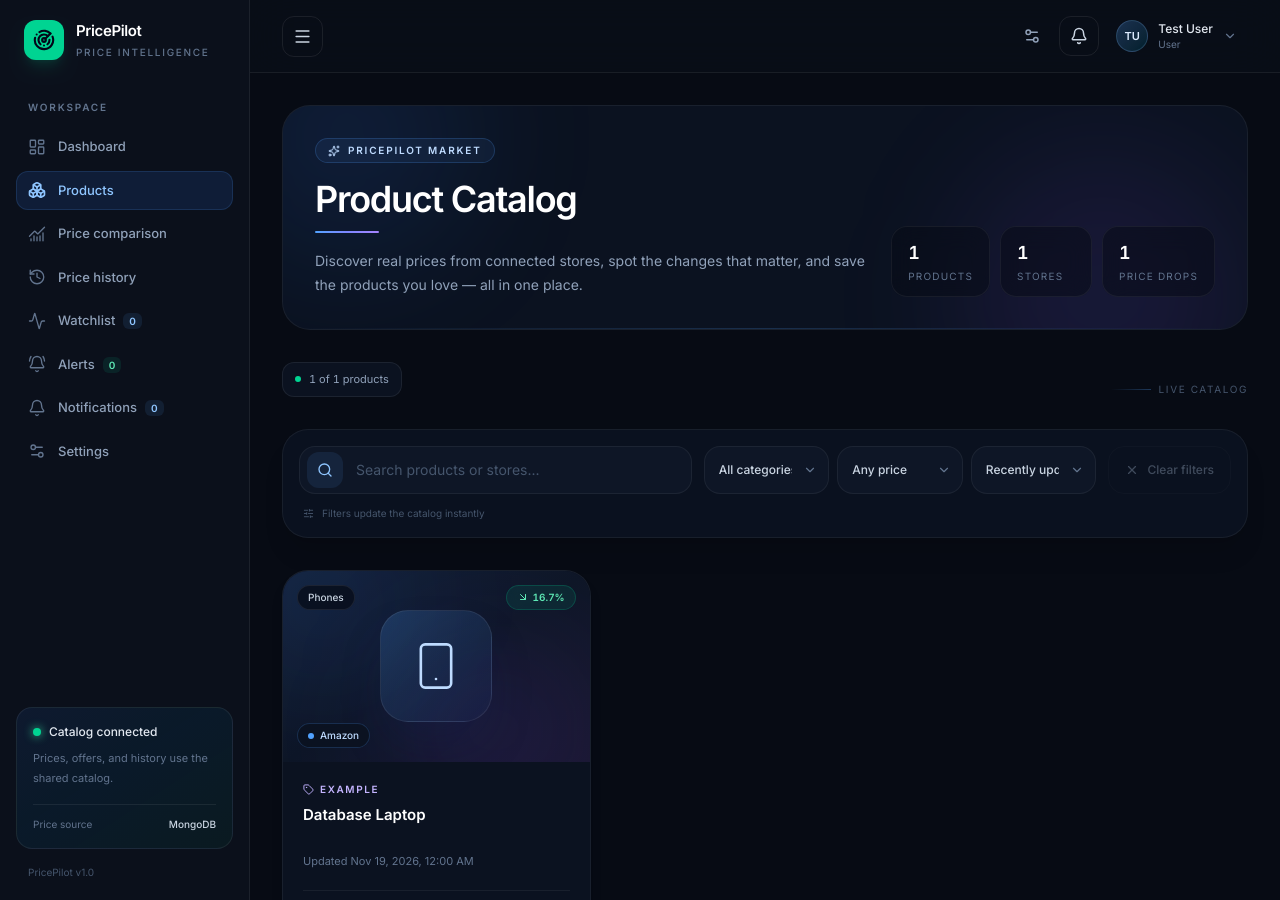
user dashboard data integrity › product listing displays API products and filters them by search
The width and height of the screenshot is (1280, 900).
Expected: the link "Database Laptop" is shown, 303,805 -> 426,824
Expected: the text "1 of 1 products" is shown, 282,362 -> 402,396
Type "Database" into the search field labelled "Search products or stores" at point(495, 470), box 299,446 -> 692,494
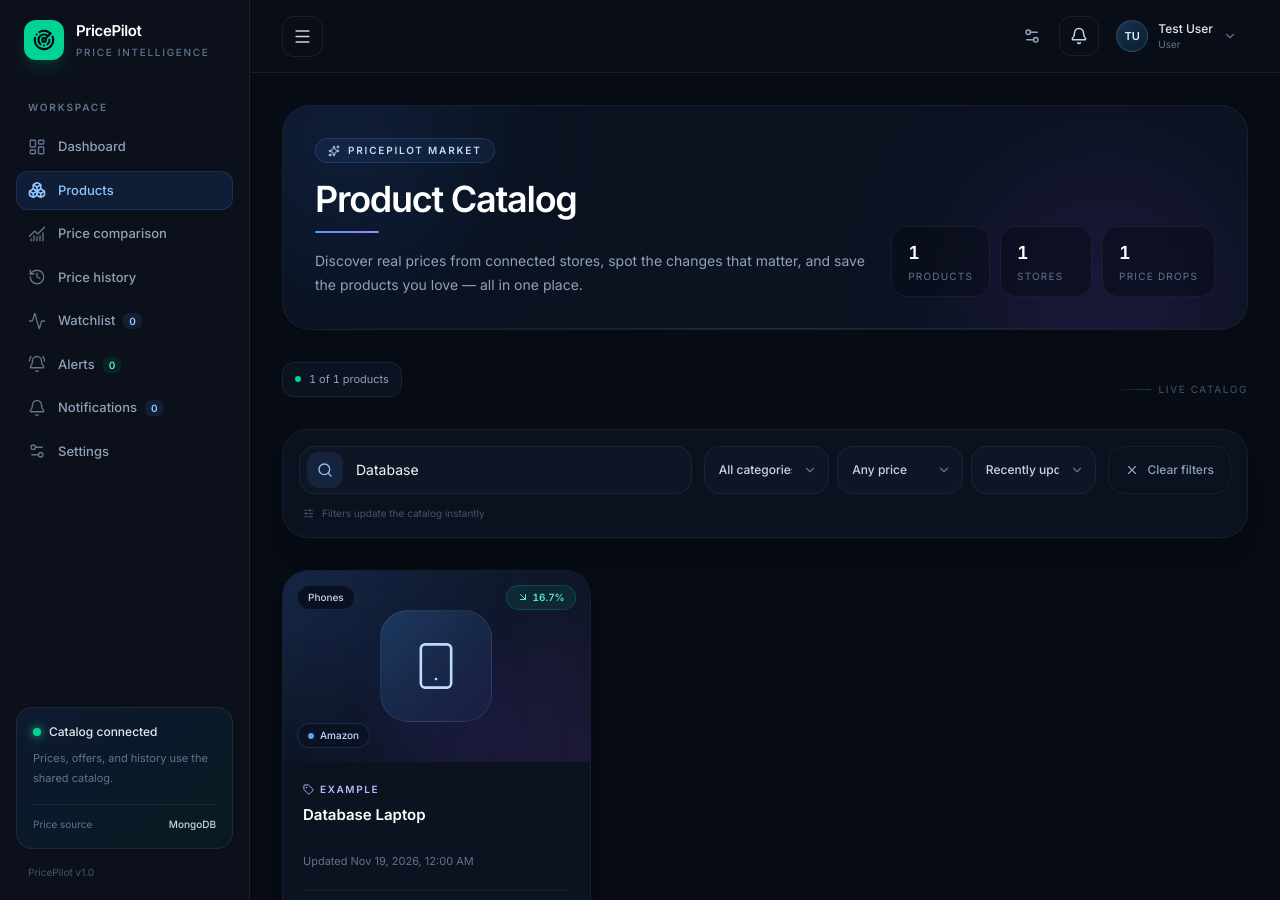
Expected: the link "Database Laptop" is shown, 303,805 -> 426,824
Expected: the text "1 of 1 products" is shown, 282,362 -> 402,396
Replace the text in the search field named "Search products or stores" with "nonexistent" at point(495, 470), box 299,446 -> 692,494
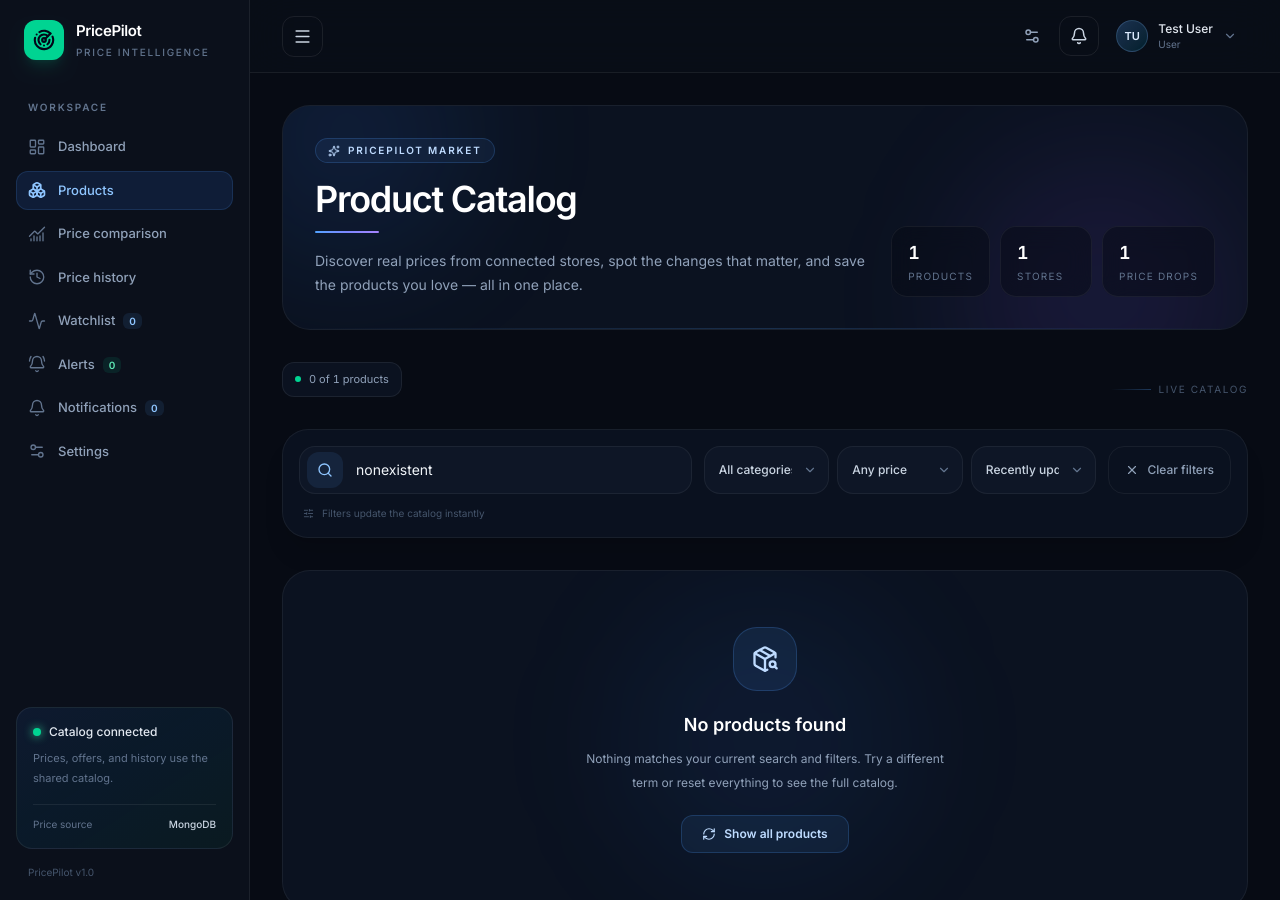
Now the heading "No products found" is shown, box 684,710 -> 846,738
